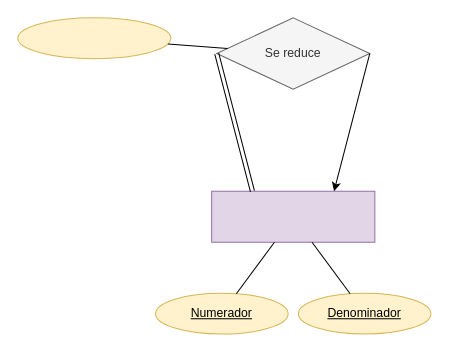
This 449x352 diagram has some shape labels left out. Here are the shapes that lost their labels. From the top down, the box of each, then its label:
(17, 17, 171, 59): FactorReducción
(211, 190, 375, 242): Racional
